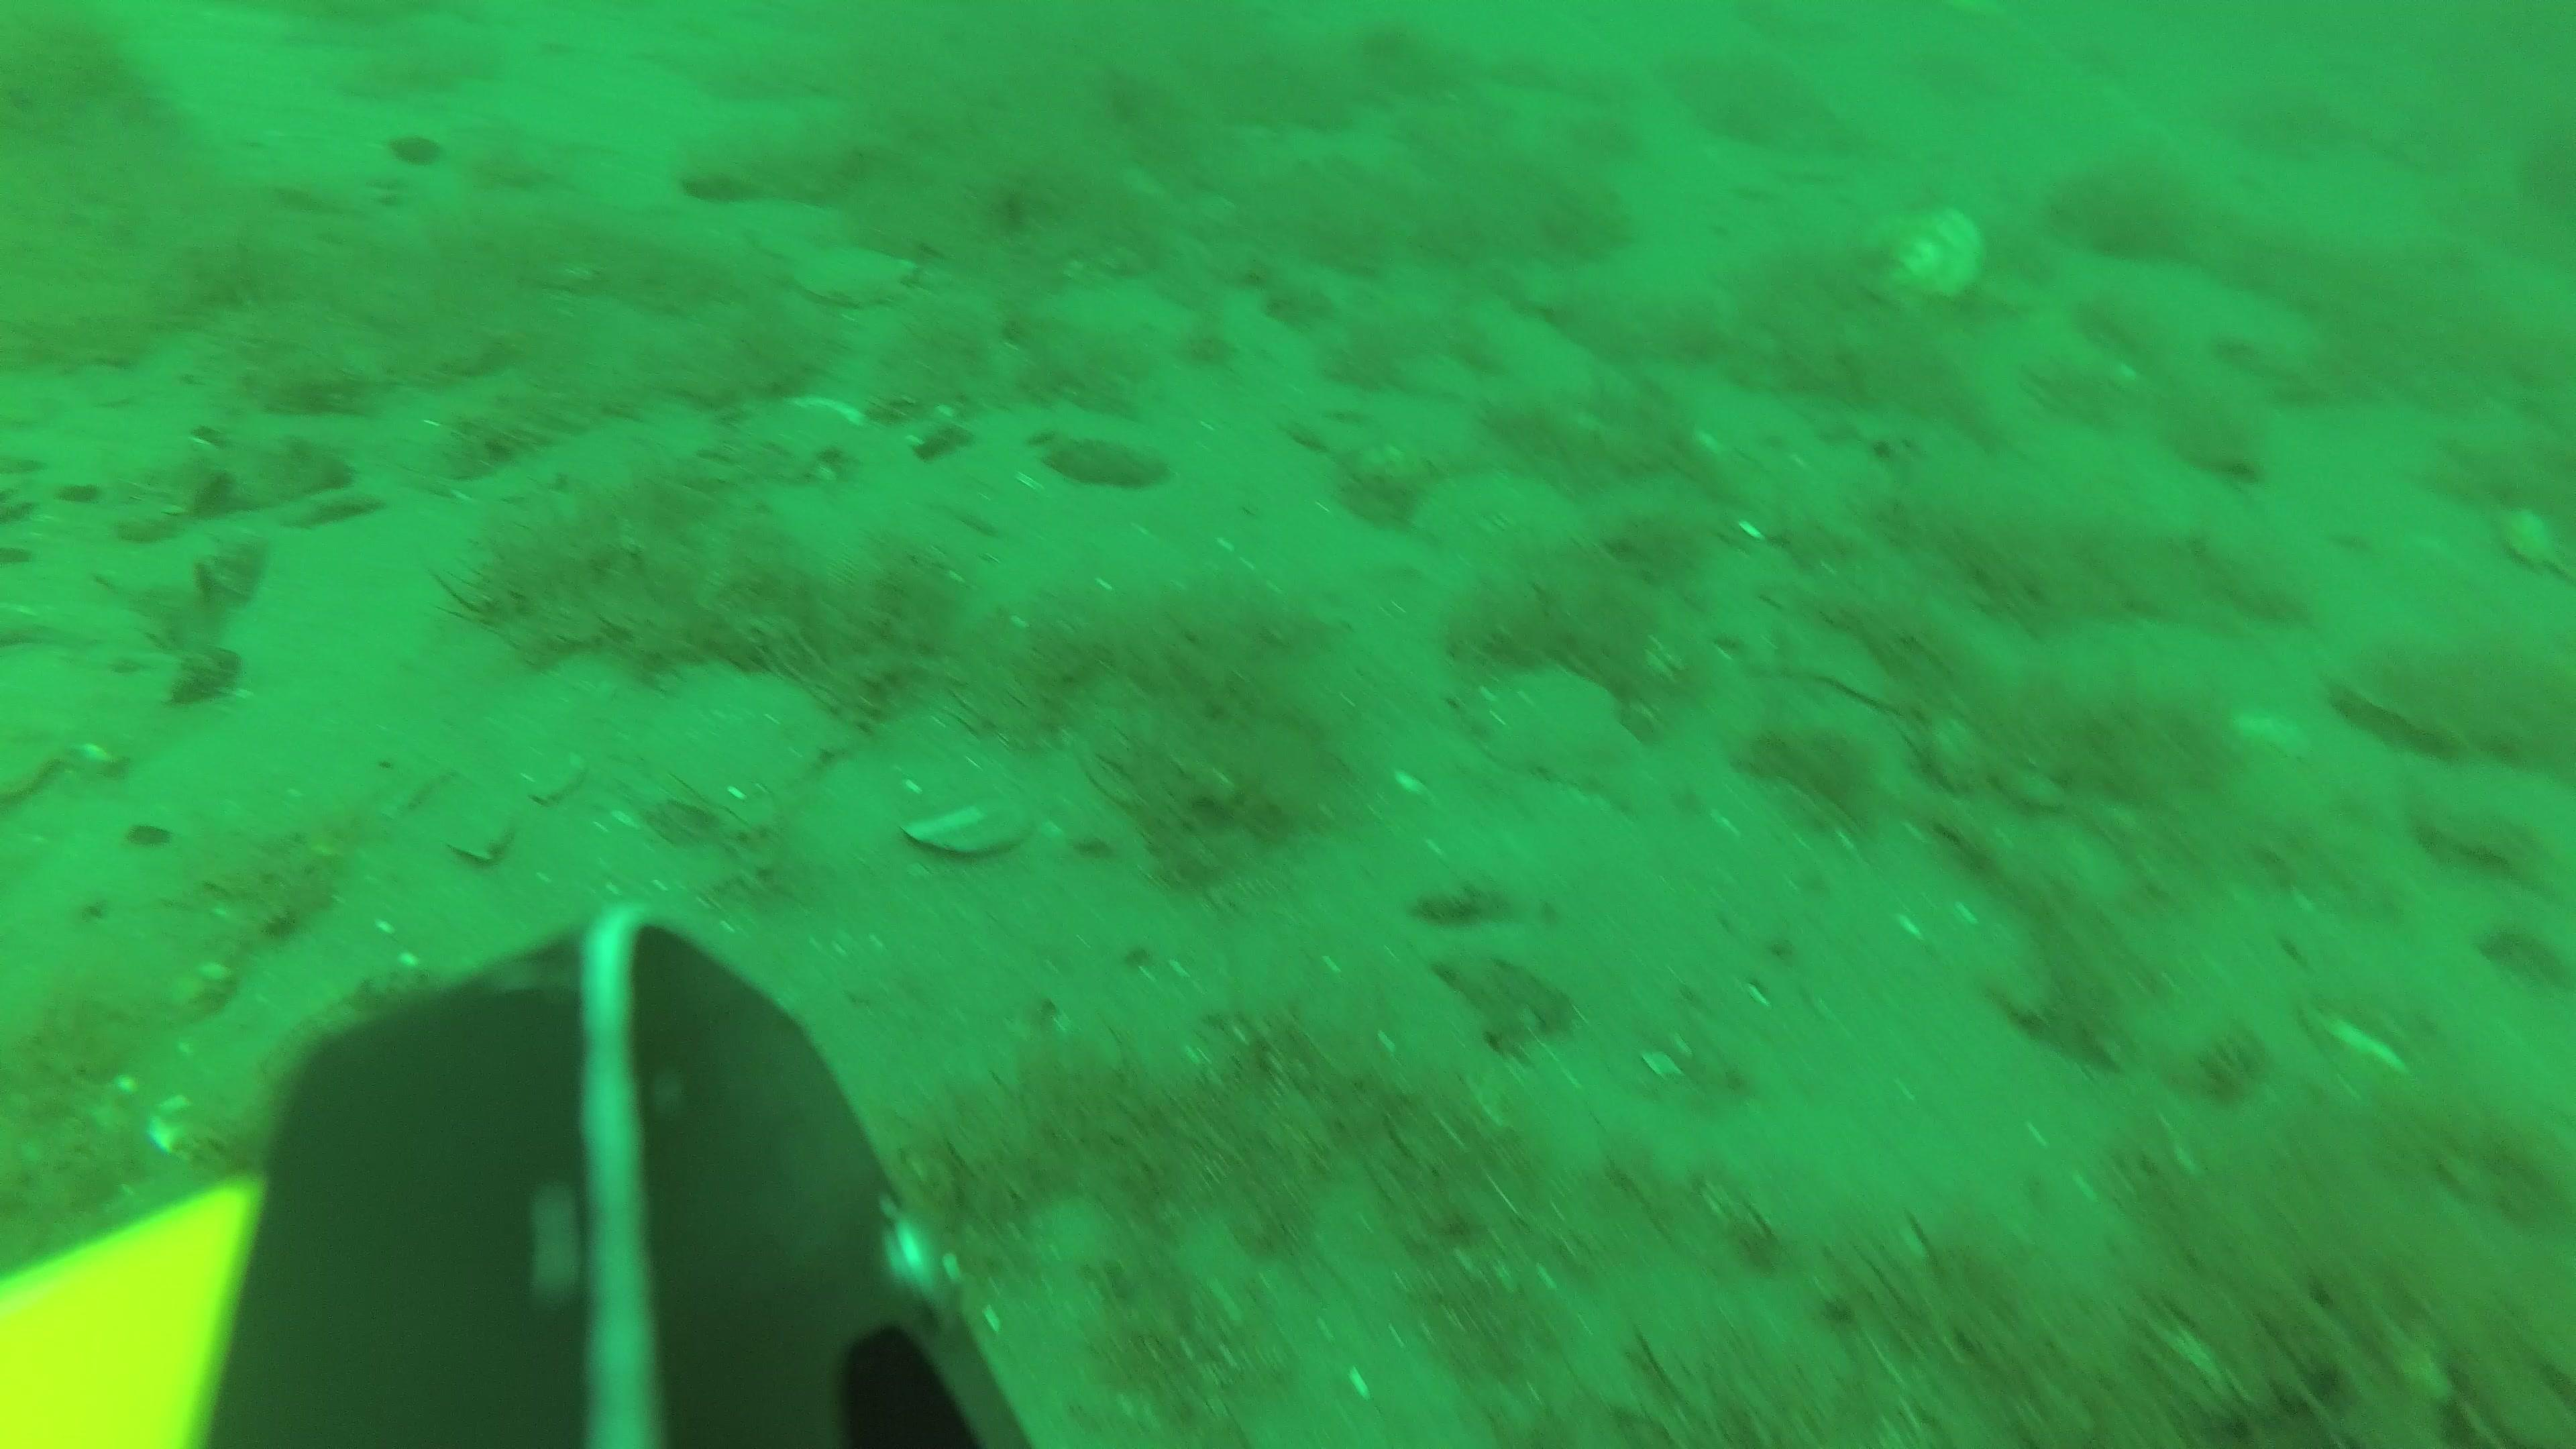scallop: (639, 678, 855, 803), (1458, 667, 1642, 786), (1884, 209, 1985, 297), (782, 246, 913, 303), (2500, 504, 2565, 568)
